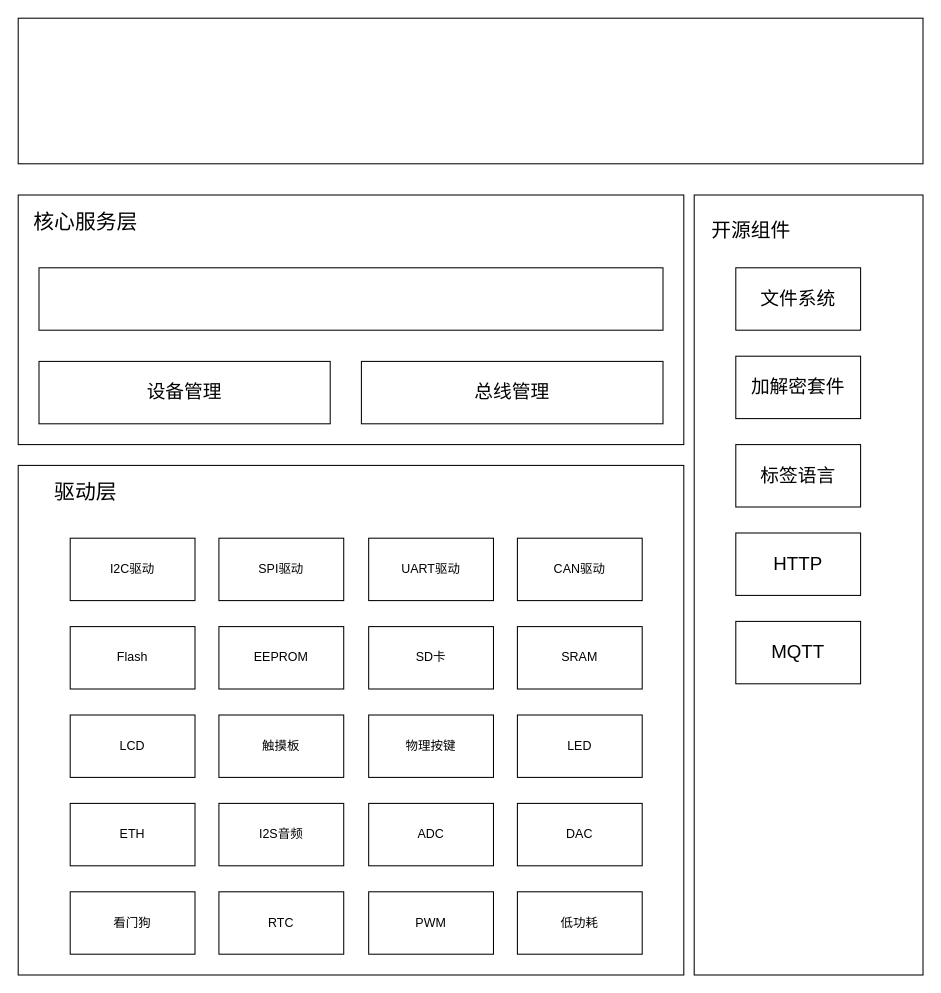
Some shapes in this 941 by 993 pixel diagram are drawn without their labels. The centre of each missing label's shape, as x and y in pixels:
应用程序: point (470, 90)
通用组件接管理: point (350, 298)
